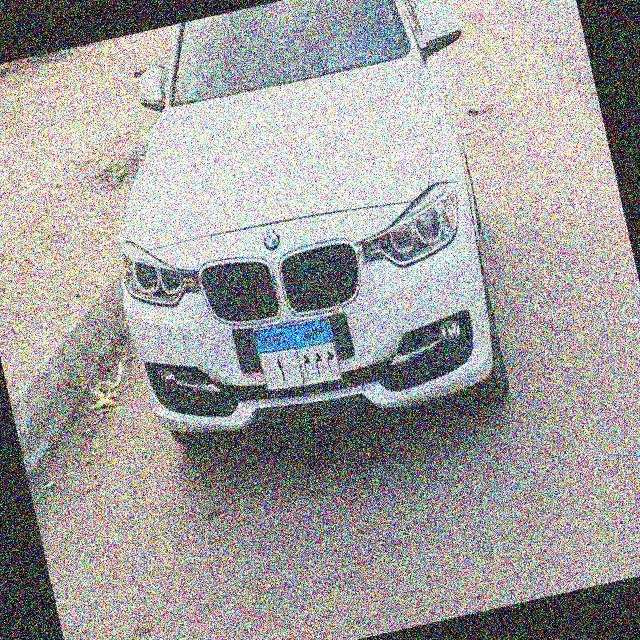License Plate: (248, 305, 348, 405)
